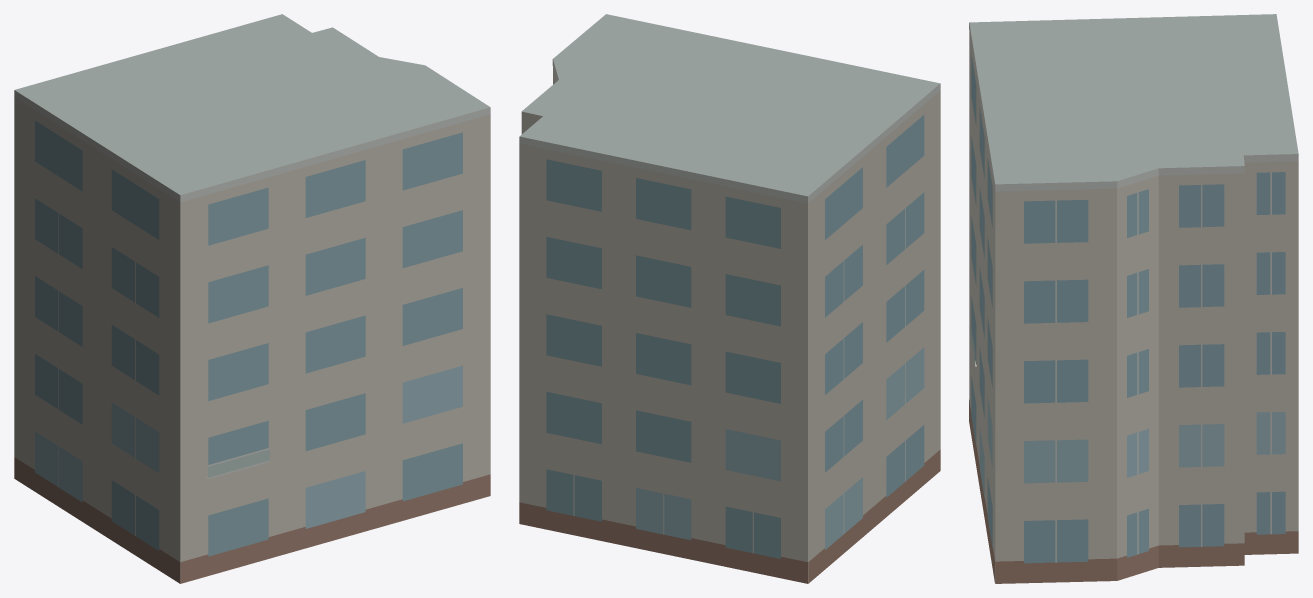
File: survey-upis-32698890.glb
The picture shows the model from 3 angles, left to right: view 1: azimuth 30°, elevation 25°; view 2: azimuth 150°, elevation 25°; view 3: azimuth 270°, elevation 25°; orthographic projection. The views are drawn at different scales.
Parts seen in each view (by area): view 1: survey-upis-32698890.tmp; view 2: survey-upis-32698890.tmp; view 3: survey-upis-32698890.tmp.
Boxes of the visible parts, bbox=[...] form: survey-upis-32698890.tmp: bbox=[14, 14, 490, 583]; survey-upis-32698890.tmp: bbox=[519, 14, 940, 583]; survey-upis-32698890.tmp: bbox=[969, 14, 1298, 583].
Bounding box in the file's own units: 12.33 × 13.47 × 10.08.
